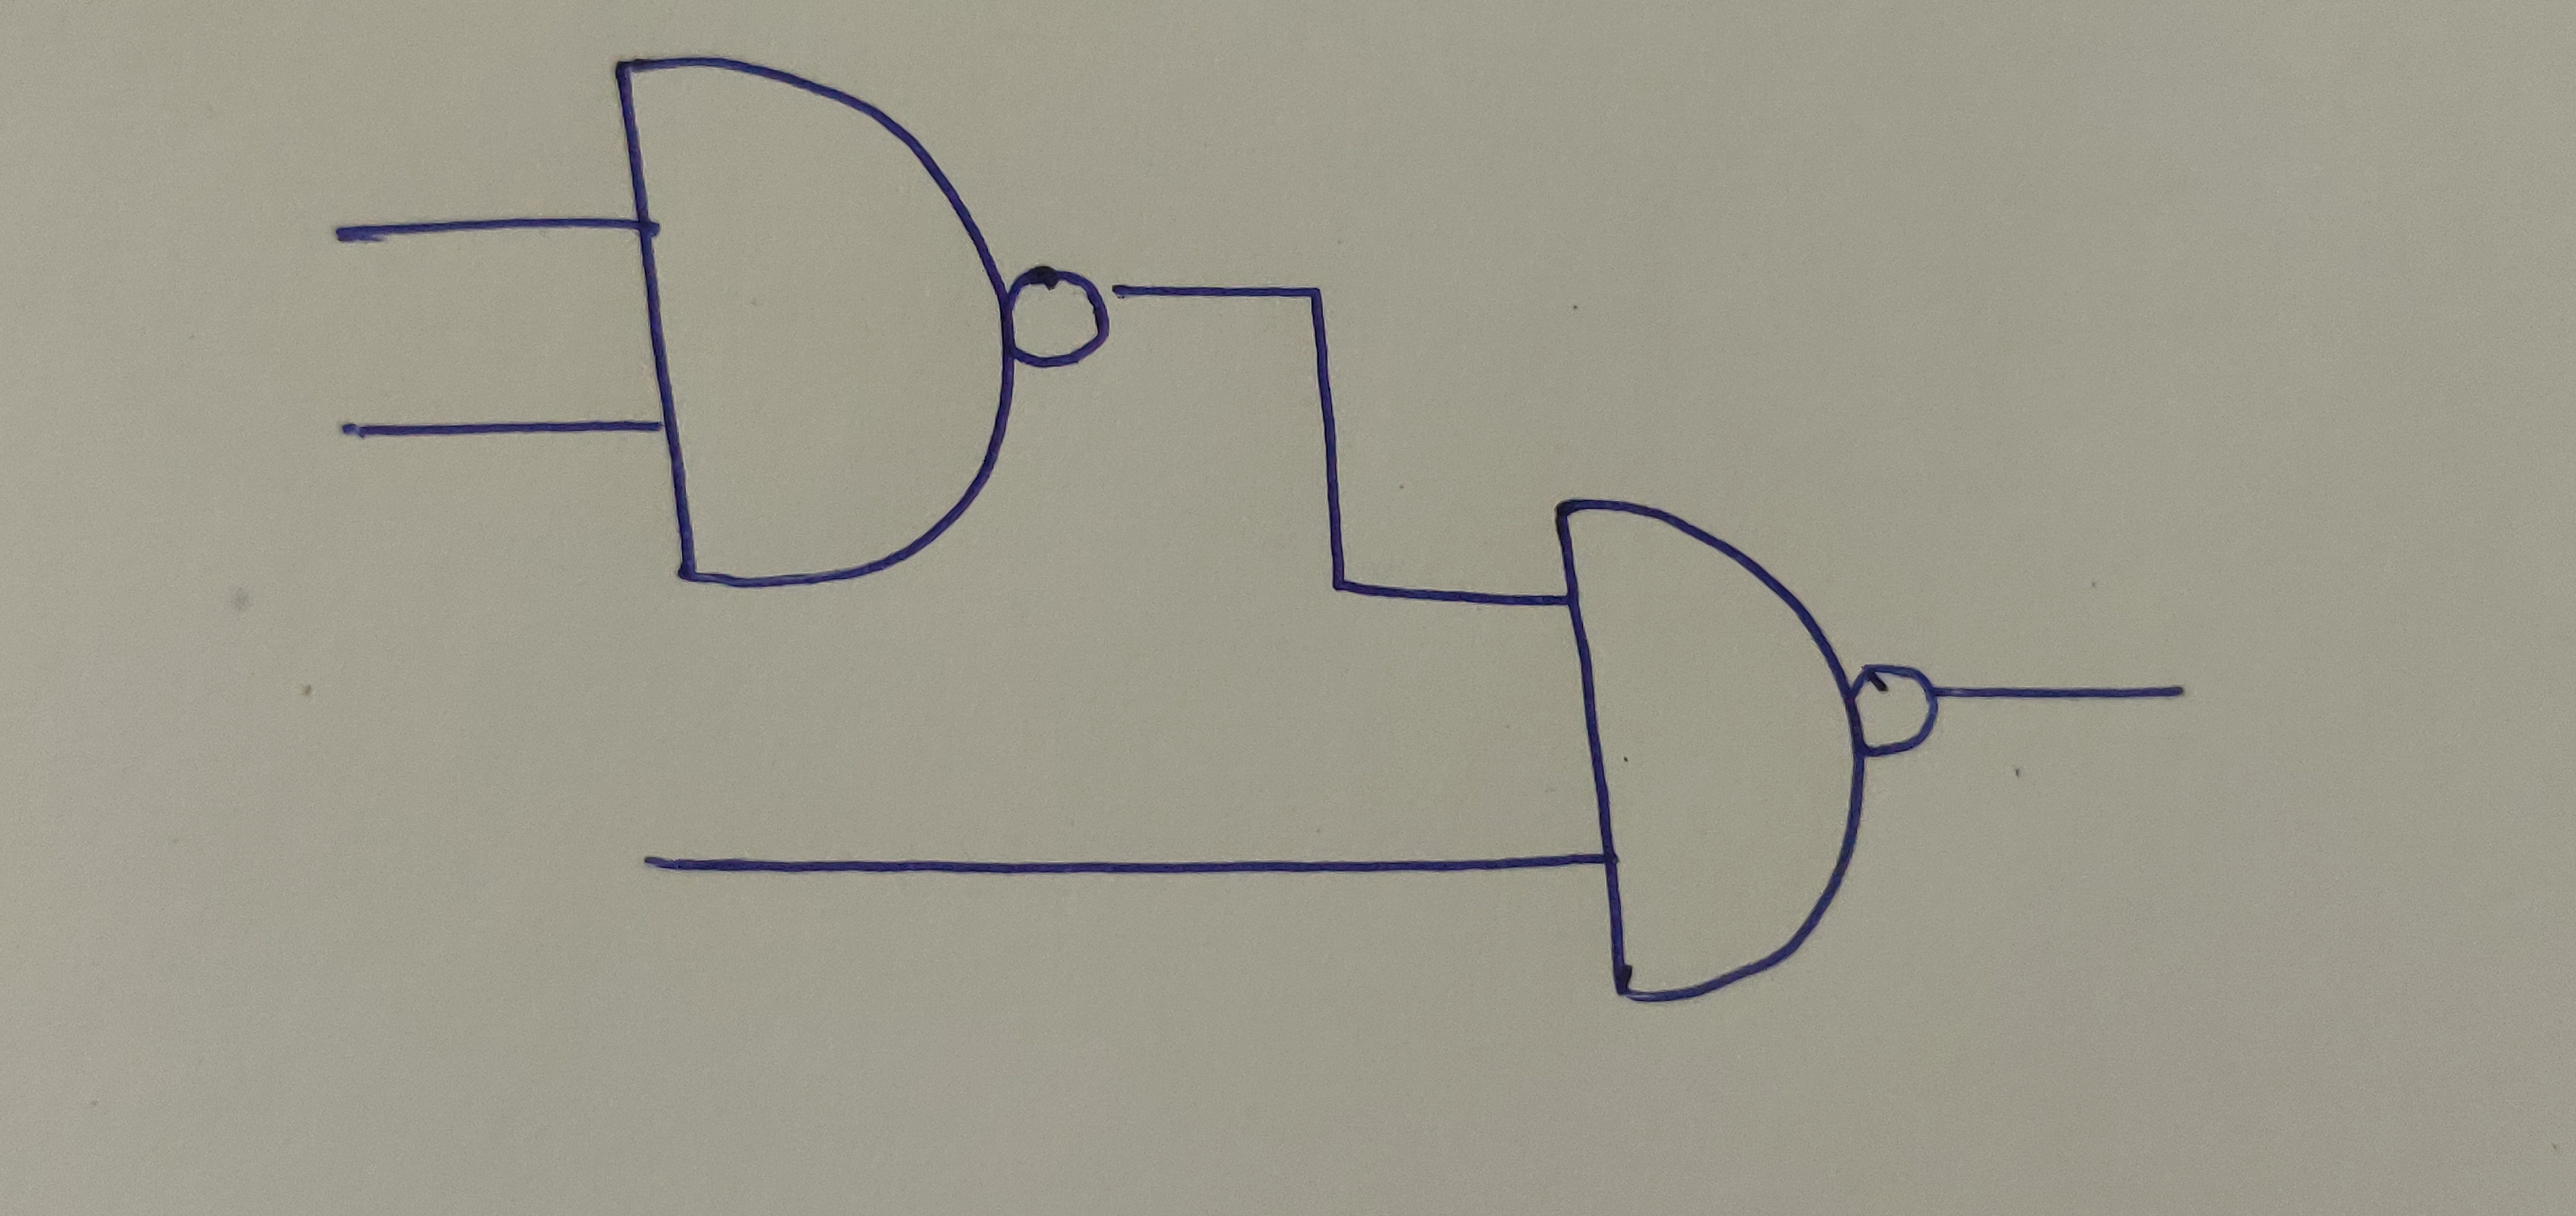and: (610, 54, 1012, 590), (1551, 495, 1871, 1001)
not: (1004, 268, 1112, 370), (1851, 656, 1942, 767)
